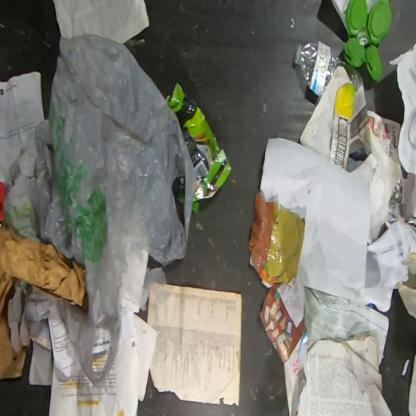cardboard: (0, 223, 88, 384), (167, 82, 232, 214), (0, 181, 7, 228)
rigid_plastic: (294, 40, 364, 98), (344, 0, 393, 81)
soft_plastic: (4, 33, 197, 386)
